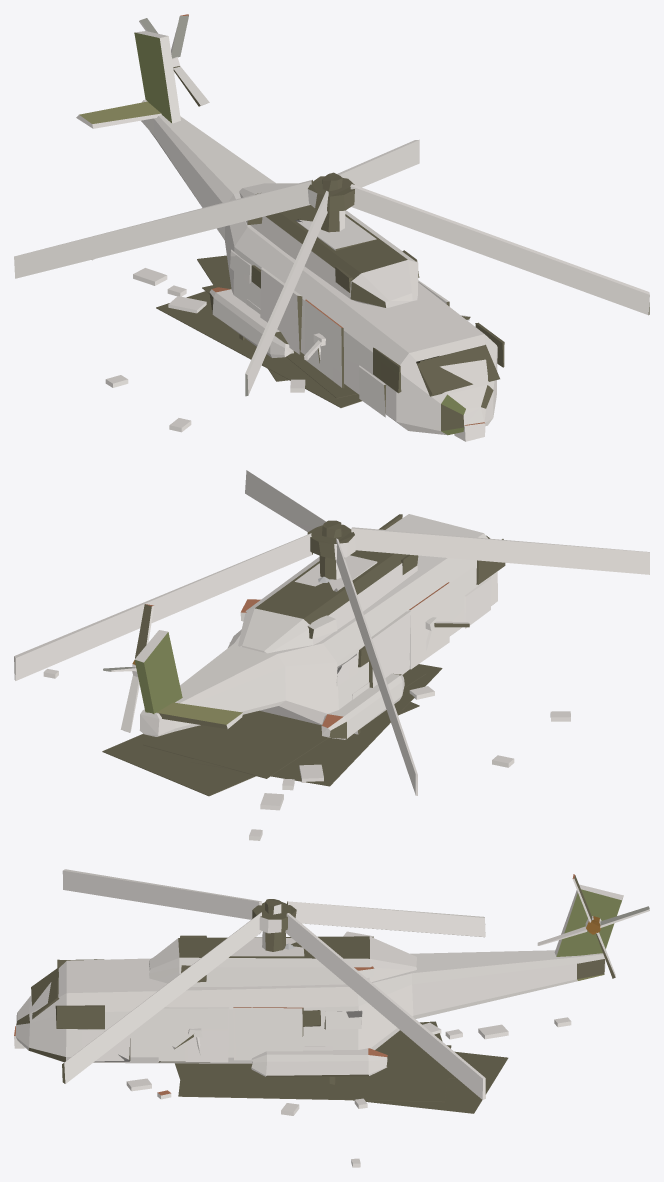
The model's file is SM_RestosNH90_v0_LOD0.fbx.
3 renders of one model, top to bottom at view 1: azimuth 30°, elevation 25°; view 2: azimuth 150°, elevation 25°; view 3: azimuth 270°, elevation 25°, orthographic. The views are drawn at different scales.
Parts seen in each view (by area): view 1: SM_bloques.restos_nh90_v0_LOD0; view 2: SM_bloques.restos_nh90_v0_LOD0; view 3: SM_bloques.restos_nh90_v0_LOD0.
Part boxes in pixels (x1,y1,x2,y2): SM_bloques.restos_nh90_v0_LOD0: (14, 14, 649, 441); SM_bloques.restos_nh90_v0_LOD0: (14, 470, 649, 840); SM_bloques.restos_nh90_v0_LOD0: (14, 869, 649, 1167).
Size of the model in its own units: 12.71 by 5.82 by 17.4.
